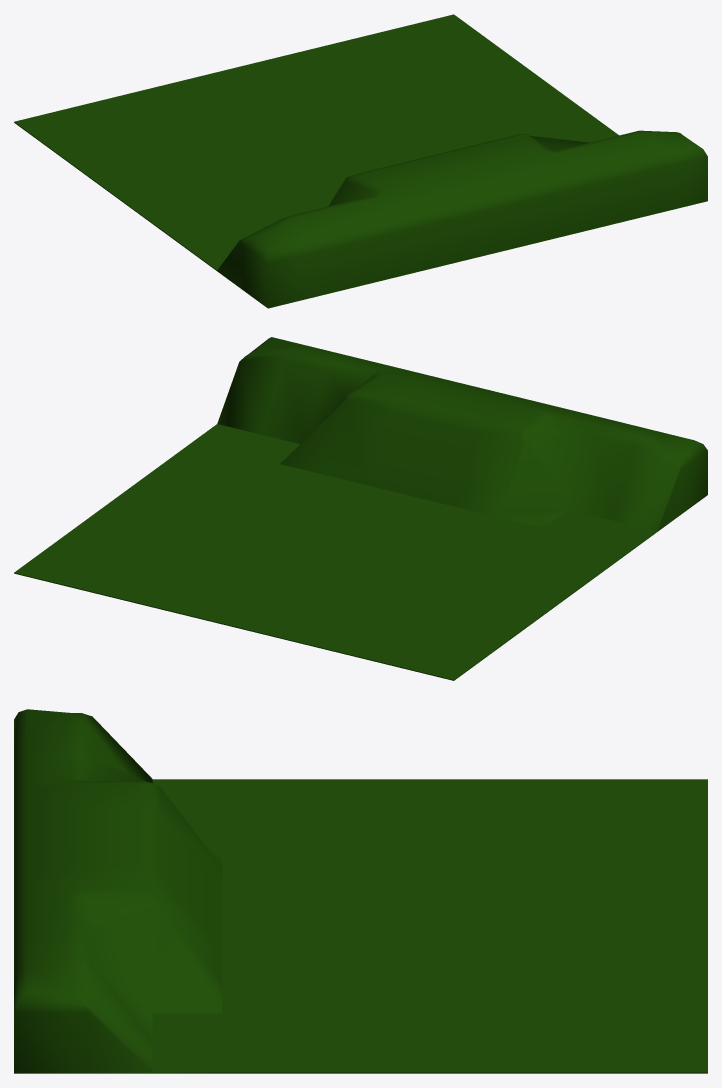
The model's file is Terrain.DAE.
3 renders of one model, top to bottom at view 1: azimuth 30°, elevation 25°; view 2: azimuth 150°, elevation 25°; view 3: azimuth 270°, elevation 25°, orthographic. The views are drawn at different scales.
Parts seen in each view (by area): view 1: Box001; view 2: Box001; view 3: Box001.
Boxes of the visible parts, x1,y1,x2,y2 form: Box001: (14, 14, 707, 308); Box001: (14, 337, 707, 680); Box001: (14, 709, 707, 1073).
Size of the model in its own units: 500 by 500 by 72.55.
